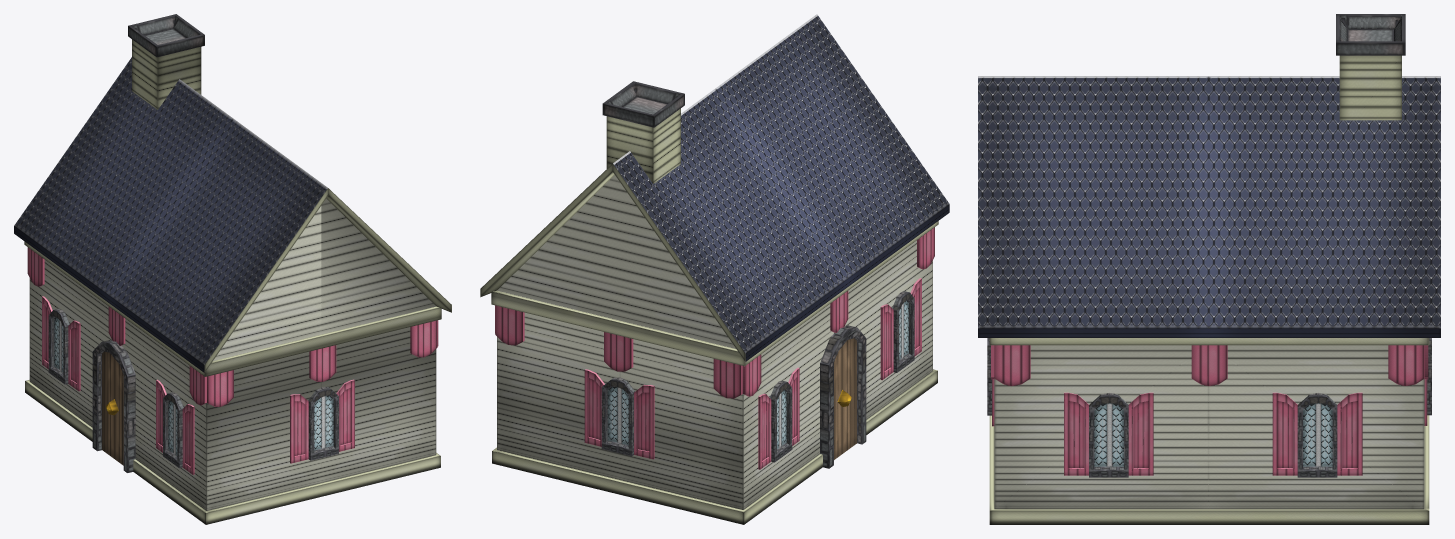
File: Villa_Cottage.fbx
The picture shows the model from 3 angles, left to right: view 1: azimuth 30°, elevation 25°; view 2: azimuth 150°, elevation 25°; view 3: azimuth 270°, elevation 25°; orthographic projection. The views are drawn at different scales.
Parts seen in each view (by area): view 1: polySurface9; view 2: polySurface9; view 3: polySurface9.
Boxes of the visible parts, x1,y1,x2,y2 form: polySurface9: [14, 14, 451, 524]; polySurface9: [480, 14, 949, 524]; polySurface9: [978, 14, 1440, 524].
Size of the model in its own units: 6.53 by 8.76 by 8.61.
